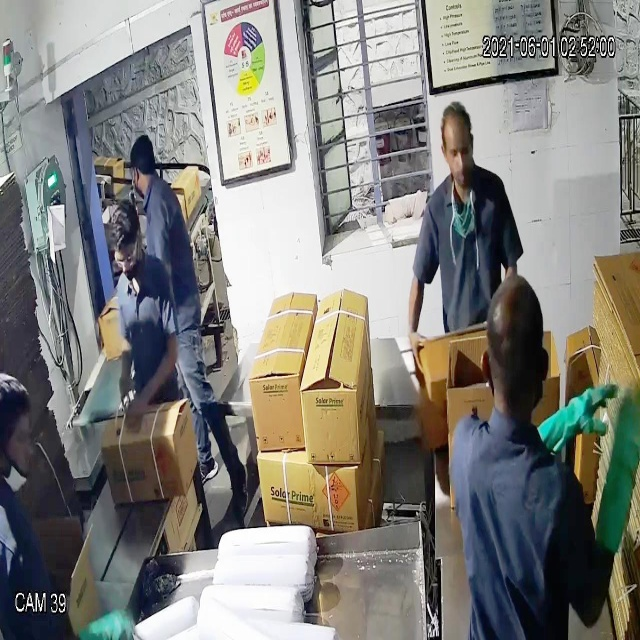Gafas: (110, 237, 140, 274)
Sin_gafas: (440, 136, 477, 168)
